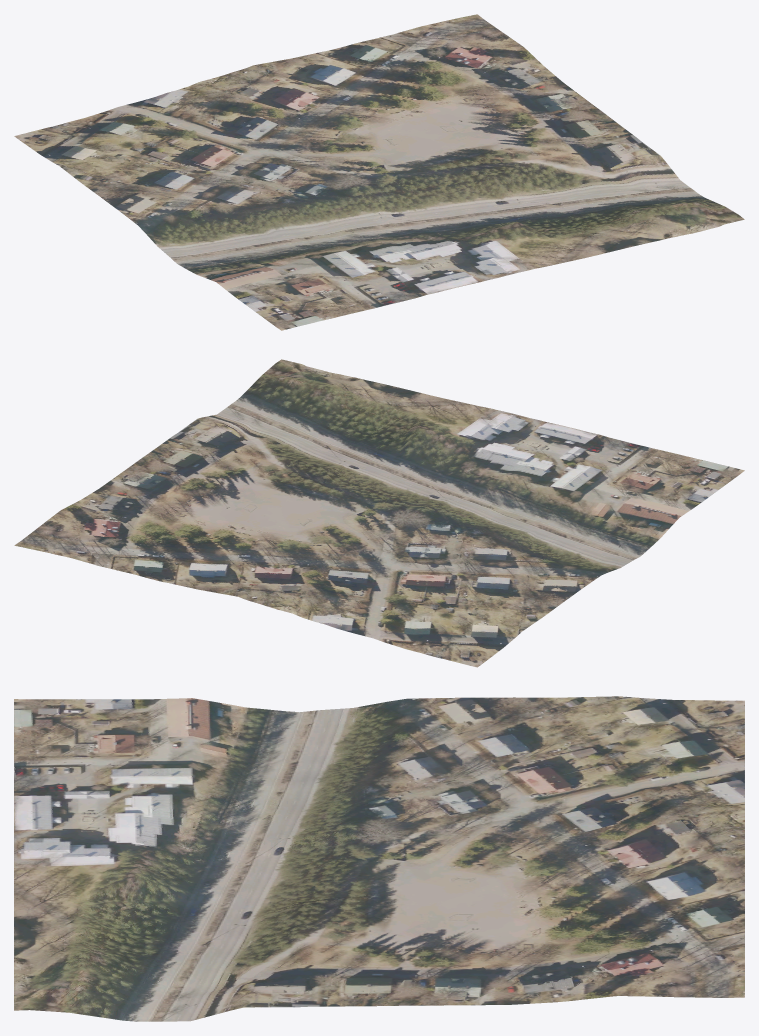
Rendered from CM_Terrain_24488820_6821841.fbx.
3 views of the same model, one above another, from view 1: azimuth 30°, elevation 25°; view 2: azimuth 150°, elevation 25°; view 3: azimuth 270°, elevation 25° (orthographic). The views are drawn at different scales.
Parts seen in each view (by area): view 1: CM_Terrain_24488820_6821841_LOD0; view 2: CM_Terrain_24488820_6821841_LOD0; view 3: CM_Terrain_24488820_6821841_LOD0.
Part boxes in pixels (x1,y1,x2,y2): CM_Terrain_24488820_6821841_LOD0: [14, 14, 744, 330]; CM_Terrain_24488820_6821841_LOD0: [14, 359, 744, 667]; CM_Terrain_24488820_6821841_LOD0: [14, 696, 744, 1021].
Size of what is drawn, in the model's own units: 205 by 9.14 by 205.
